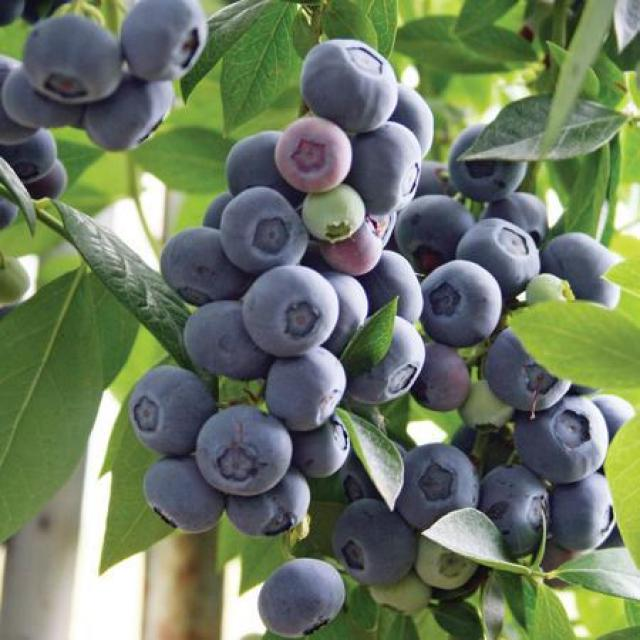BlueBerry - v1: (16, 1, 142, 116), (297, 30, 407, 138), (77, 67, 183, 165), (475, 323, 582, 419), (194, 403, 298, 499), (411, 253, 508, 351), (240, 262, 338, 358), (518, 391, 617, 485), (330, 492, 424, 590), (150, 220, 254, 308), (253, 553, 357, 640), (117, 0, 216, 91), (396, 437, 490, 532), (125, 364, 223, 455), (179, 296, 279, 385), (218, 183, 310, 279), (351, 306, 431, 415), (475, 455, 558, 560), (137, 449, 229, 542), (340, 121, 428, 217), (256, 346, 351, 430), (218, 466, 316, 544), (445, 119, 531, 205), (274, 107, 358, 195), (539, 224, 627, 308), (459, 218, 549, 298), (395, 189, 478, 275), (0, 63, 94, 135), (553, 474, 630, 560), (223, 124, 306, 202), (378, 68, 444, 162), (411, 337, 479, 422), (293, 178, 367, 246), (286, 417, 357, 485), (410, 526, 480, 593), (491, 182, 556, 242), (460, 373, 518, 438), (321, 222, 387, 279), (0, 125, 61, 185), (576, 379, 639, 436), (362, 576, 442, 620), (18, 154, 77, 212), (518, 269, 580, 323)
